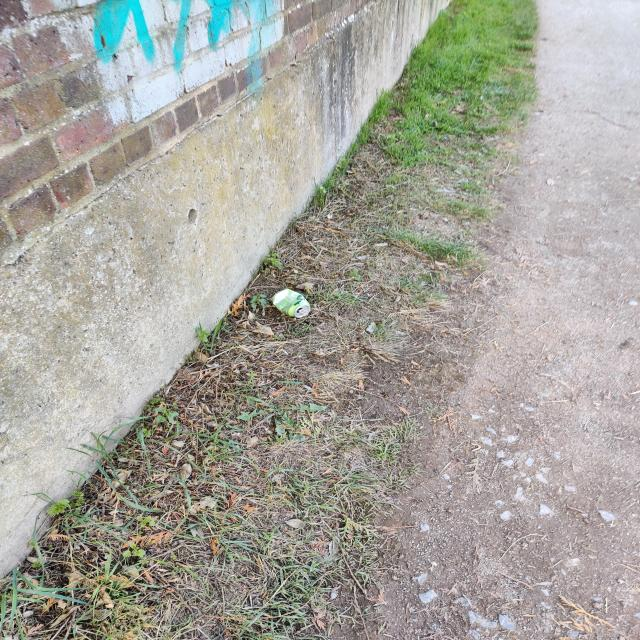litter: (268, 286, 300, 310)
